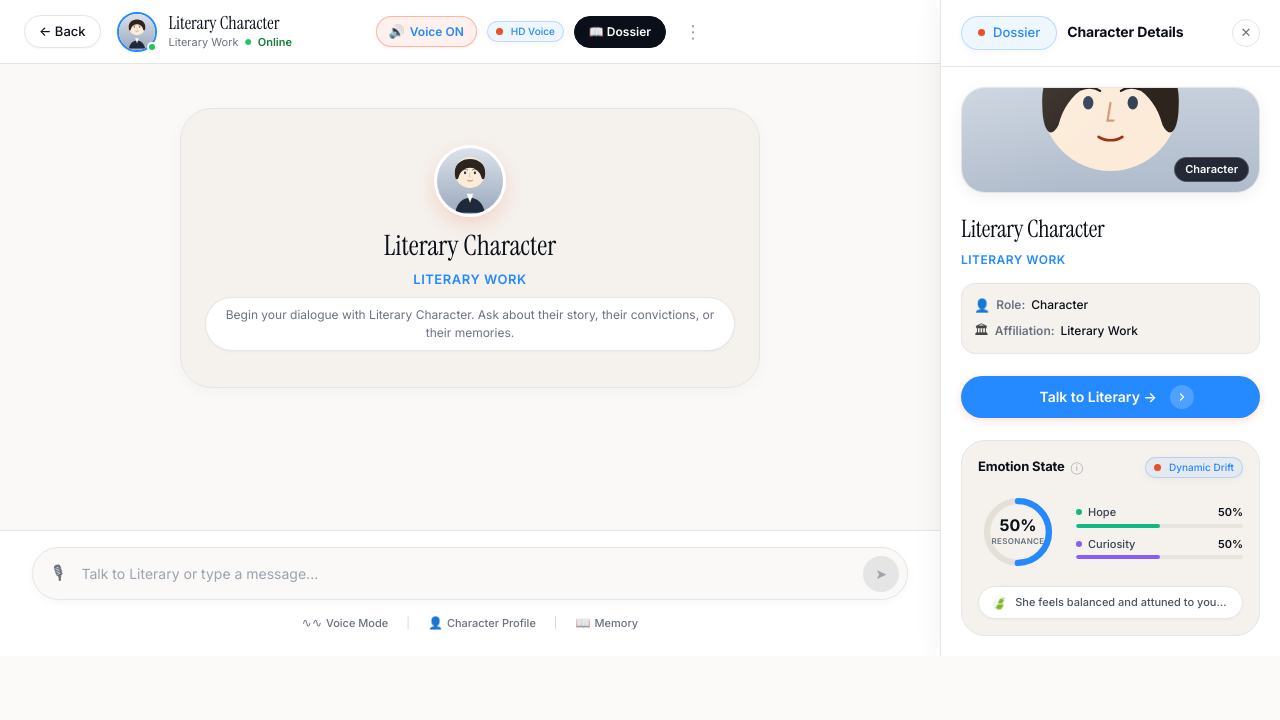
Test: ChatScreen Component › allows user to type a message and submit to composer
This screenshot has width=1280, height=720.
Type "What troubles your soul in Petersburg?" into the field with placeholder "Talk to Literary or type a message..." at (466, 574), box 70,555 -> 863,592
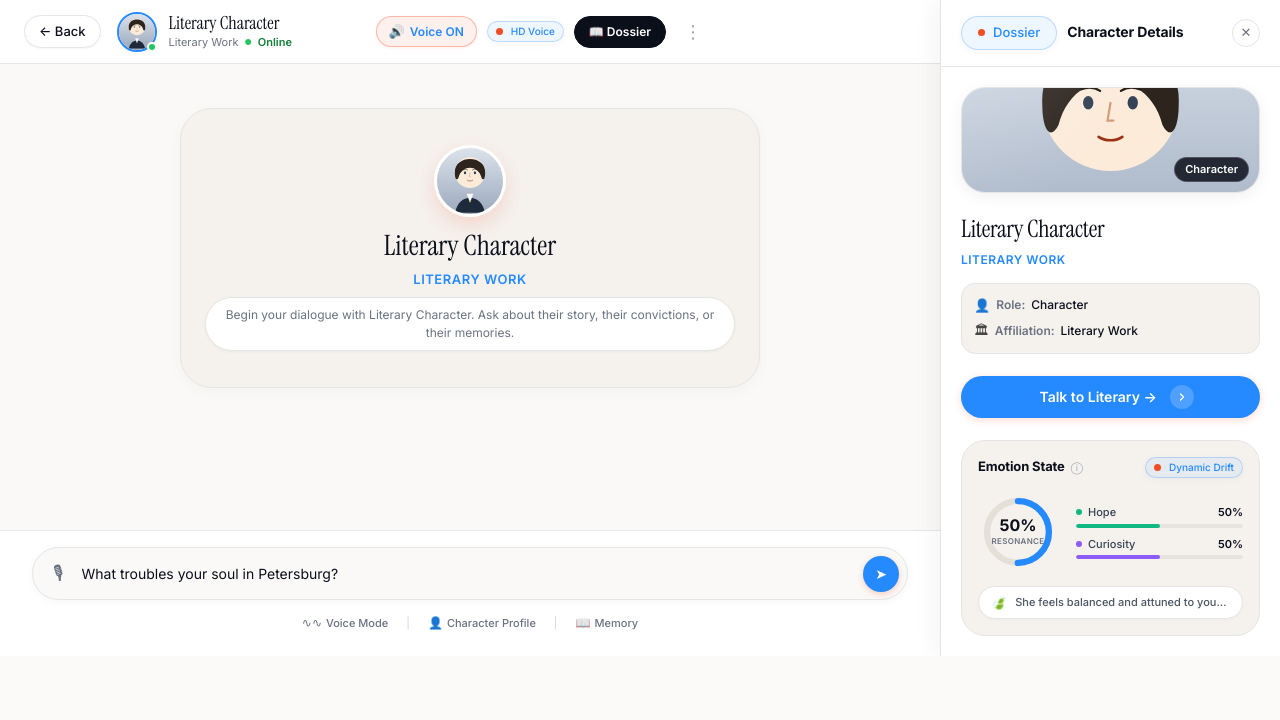
Click the button named "Send message" at (881, 574), box 863,556 -> 899,592
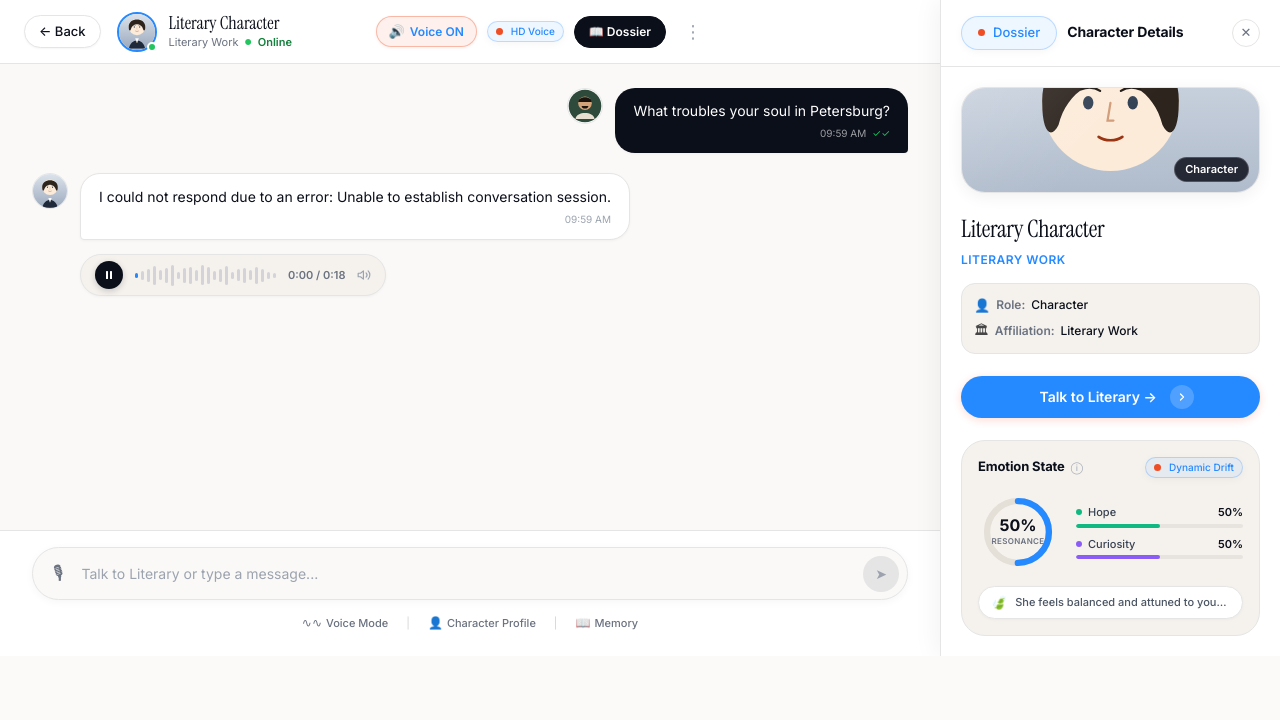
Expected: the text "What troubles your soul in Petersburg?" is shown, 633,100 -> 890,122
